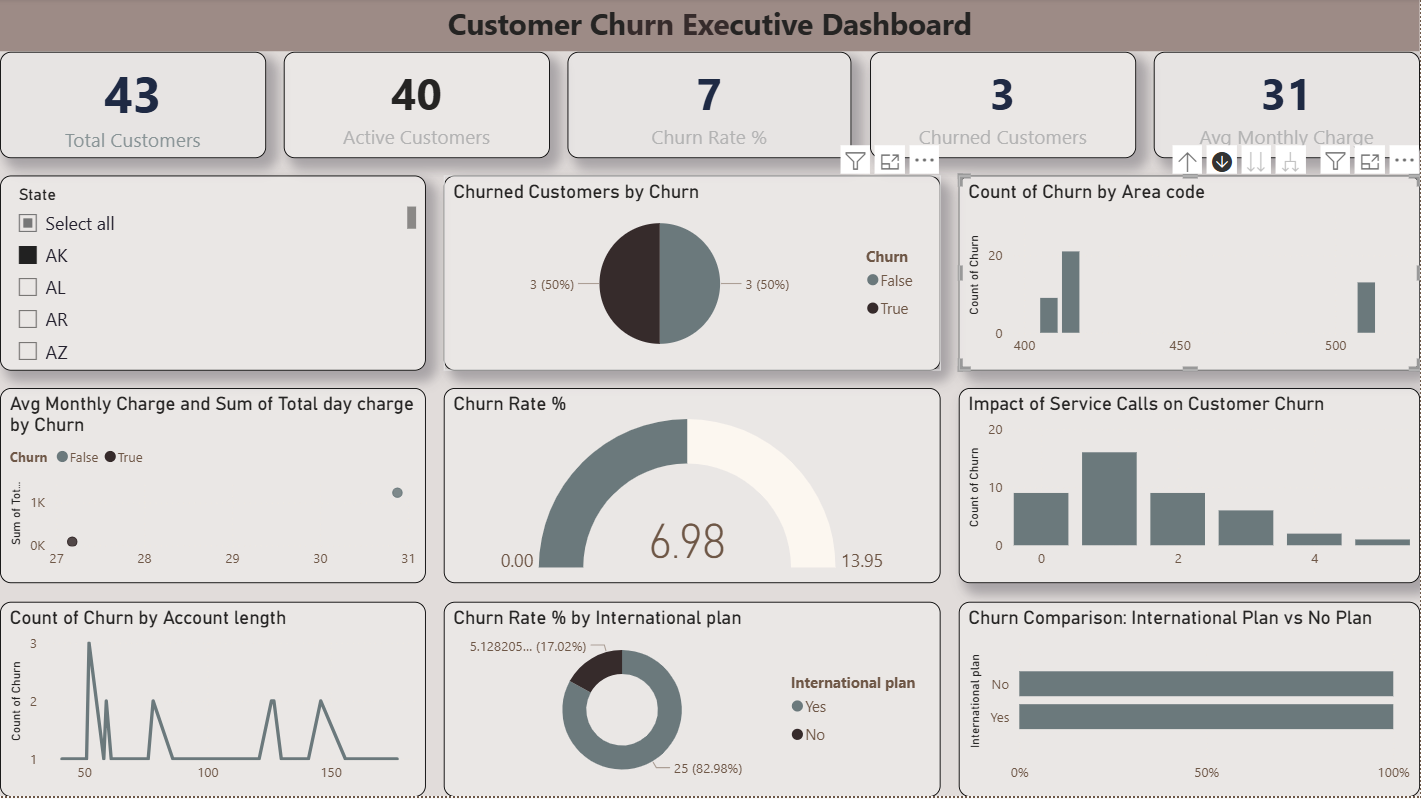

What the dashboard file says about the page in this screenshot:
{"tool":"powerbi","page":{"name":"Page 1","canvas":[1280,720],"ordinal":0},"visuals":[{"type":"card","fields":{"Values":["churn-bigml-80 (2).Total Customers"]},"box":[0,48,240,96],"z":0},{"type":"card","fields":{"Values":["churn-bigml-80 (2).Churned Customers"]},"box":[784,48,240,96],"z":1000},{"type":"card","fields":{"Values":["churn-bigml-80 (2).Churn Rate %"]},"box":[512,48,256,96],"z":2000},{"type":"card","fields":{"Values":["churn-bigml-80 (2).Avg Monthly Charge"]},"box":[1040,48,240,96],"z":3000},{"type":"card","fields":{"Values":["churn-bigml-80 (2).Active Customers"]},"box":[256,48,240,96],"z":4000},{"type":"textbox","box":[0,0,1280,48],"z":5000},{"type":"clusteredColumnChart","fields":{"Y":["CountNonNull(churn-bigml-80 (2).Churn)"],"Category":["churn-bigml-80 (2).State Hierarchy.State","churn-bigml-80 (2).State Hierarchy.Area code"]},"box":[864,160,416,176],"z":6000},{"type":"hundredPercentStackedBarChart","title":"Churn Comparison: International Plan vs No Plan","fields":{"Category":["churn-bigml-80 (2).International plan"],"Y":["CountNonNull(churn-bigml-80 (2).Churn)"]},"box":[864,544,416,176],"z":7000},{"type":"clusteredColumnChart","title":"Impact of Service Calls on Customer Churn","fields":{"Category":["churn-bigml-80 (2).Customer service calls"],"Y":["CountNonNull(churn-bigml-80 (2).Churn)"]},"box":[864,352,416,176],"z":8000},{"type":"scatterChart","fields":{"X":["churn-bigml-80 (2).Avg Monthly Charge"],"Y":["Sum(churn-bigml-80 (2).Total day charge)"],"Series":["churn-bigml-80 (2).Churn"]},"box":[0,352,384,176],"z":9000},{"type":"lineChart","fields":{"Category":["churn-bigml-80 (2).Account length"],"Y":["CountNonNull(churn-bigml-80 (2).Churn)"]},"box":[0,544,384,176],"z":10000},{"type":"slicer","fields":{"Values":["churn-bigml-80 (2).State"]},"box":[0,160,384,176],"z":11000},{"type":"pieChart","fields":{"Category":["churn-bigml-80 (2).Churn"],"Y":["churn-bigml-80 (2).Churned Customers"]},"box":[400,160,448,176],"z":12000},{"type":"gauge","fields":{"Y":["churn-bigml-80 (2).Churn Rate %"]},"box":[400,352,448,176],"z":13000},{"type":"donutChart","fields":{"Category":["churn-bigml-80 (2).International plan"],"Y":["churn-bigml-80 (2).Churn Rate %"]},"box":[400,544,448,176],"z":14000}]}

Visuals, with their boxes in screenshot pixels (x1, y1, x2, y2):
card - churn-bigml-80 (2).Total Customers: rect(11, 53, 274, 158)
card - churn-bigml-80 (2).Churned Customers: rect(869, 53, 1132, 158)
card - churn-bigml-80 (2).Churn Rate %: rect(572, 53, 852, 158)
card - churn-bigml-80 (2).Avg Monthly Charge: rect(1150, 53, 1412, 158)
card - churn-bigml-80 (2).Active Customers: rect(291, 53, 554, 158)
textbox: rect(11, 0, 1412, 53)
clusteredColumnChart - CountNonNull(churn-bigml-80 (2).Churn) x churn-bigml-80 (2).State Hierarchy.State: rect(957, 175, 1412, 368)
"Churn Comparison: International Plan vs No Plan" hundredPercentStackedBarChart: rect(957, 596, 1412, 788)
"Impact of Service Calls on Customer Churn" clusteredColumnChart: rect(957, 385, 1412, 578)
scatterChart - churn-bigml-80 (2).Avg Monthly Charge x Sum(churn-bigml-80 (2).Total day charge): rect(11, 385, 432, 578)
lineChart - churn-bigml-80 (2).Account length x CountNonNull(churn-bigml-80 (2).Churn): rect(11, 596, 432, 788)
slicer - churn-bigml-80 (2).State: rect(11, 175, 432, 368)
pieChart - churn-bigml-80 (2).Churn x churn-bigml-80 (2).Churned Customers: rect(449, 175, 939, 368)
gauge - churn-bigml-80 (2).Churn Rate %: rect(449, 385, 939, 578)
donutChart - churn-bigml-80 (2).International plan x churn-bigml-80 (2).Churn Rate %: rect(449, 596, 939, 788)
